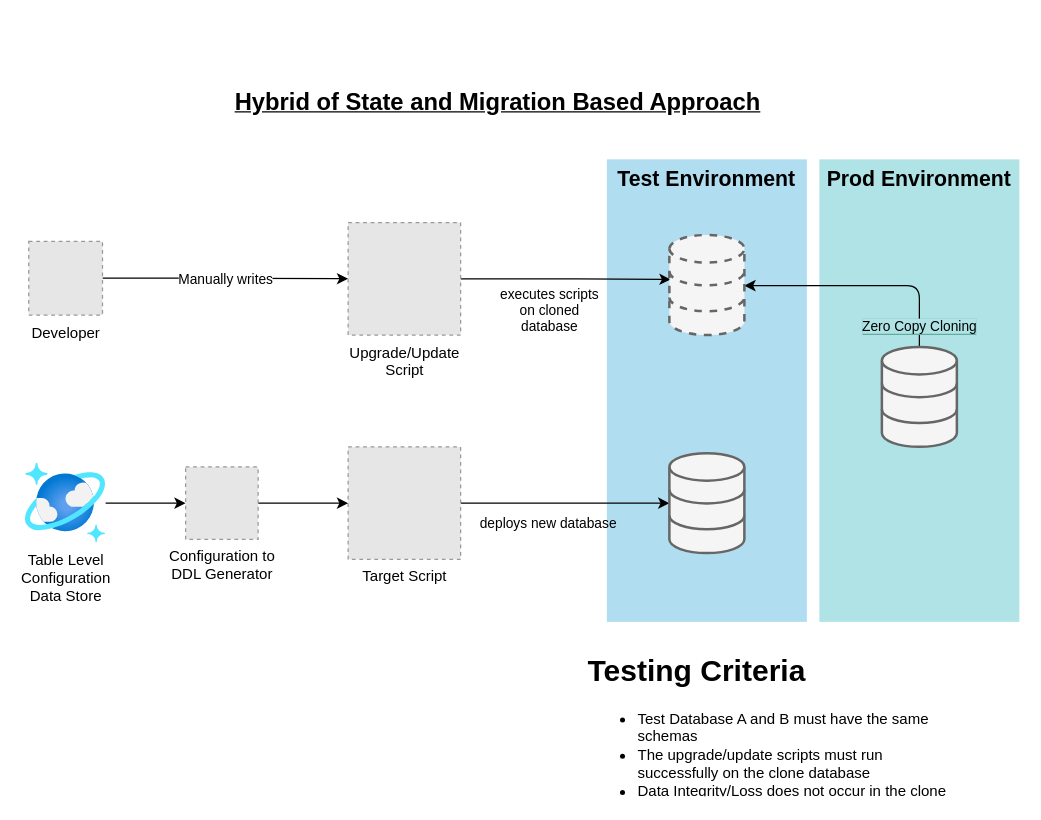
Some shapes in this 1041 by 820 pixel diagram are drawn without their labels. Grey dashed boxes stand in for pictures. The centre of each missing label's shape, as x and y in pixels:
"Prod Database" belongs at (x=919, y=396).
"Test Database A" belongs at (x=706, y=284).
"Test Database B" belongs at (x=706, y=502).
